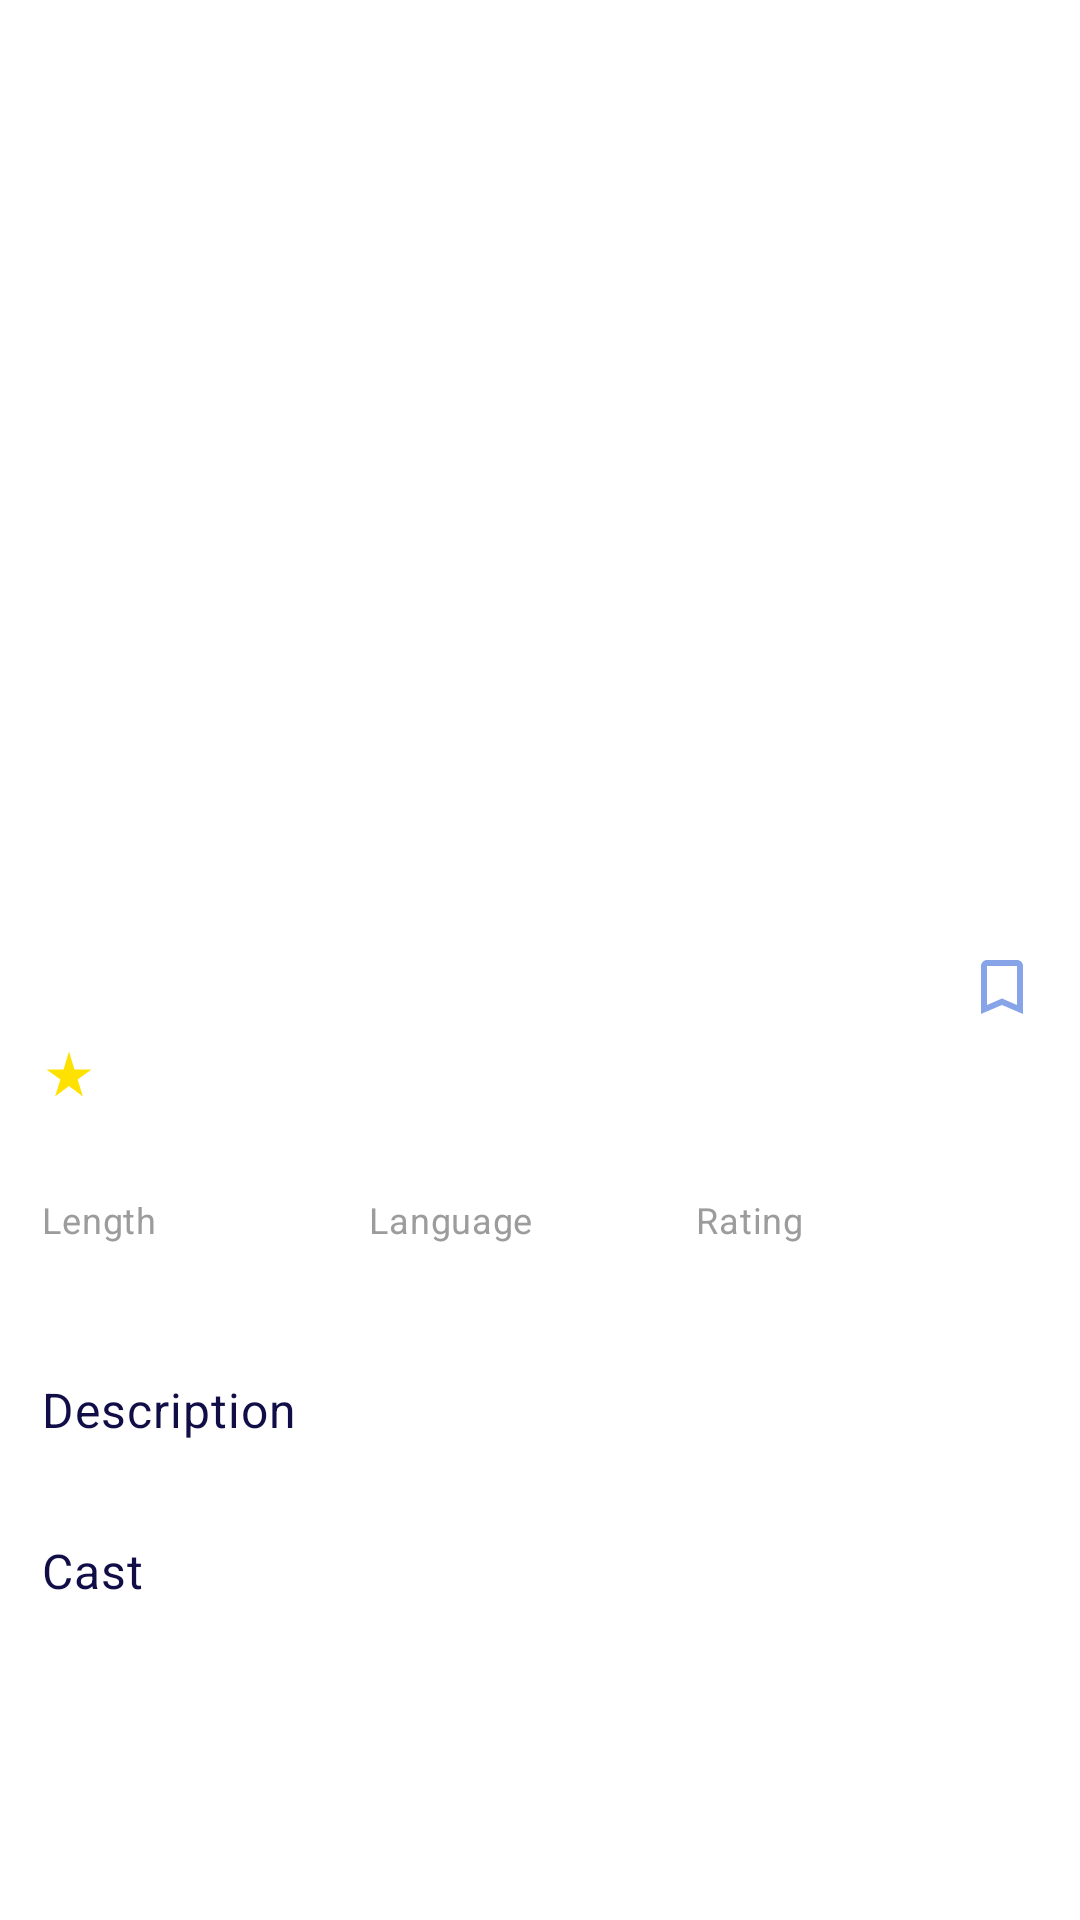

Icon click points for this 1080 × 1920 phone screenshot, format [x,y]:
bookmark border: [1002,987]
star rate: [69,1074]
